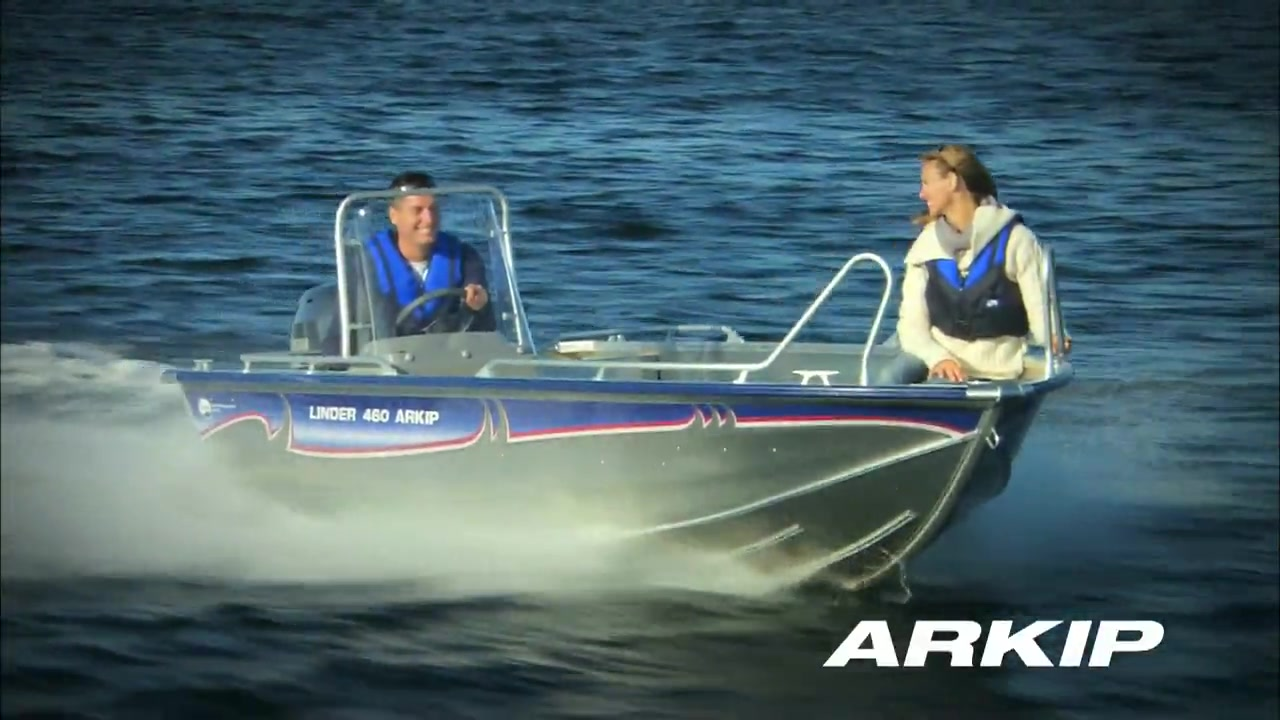boat: (162, 180, 1071, 611)
